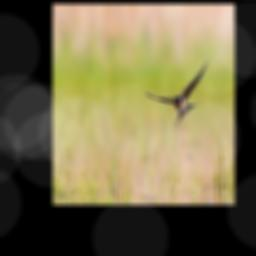Swallow: (145, 61, 207, 128)
